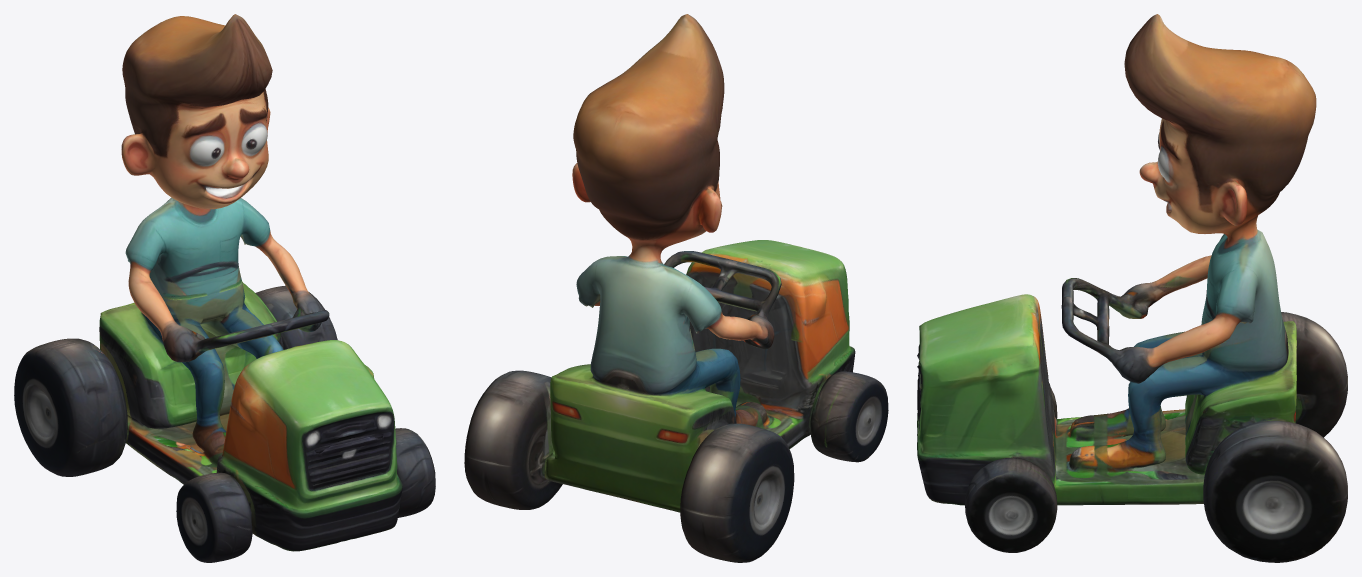
File: mower.glb
The picture shows the model from 3 angles, left to right: view 1: azimuth 30°, elevation 25°; view 2: azimuth 150°, elevation 25°; view 3: azimuth 270°, elevation 25°; orthographic projection. The views are drawn at different scales.
Bounding box in the file's own units: 1.23 × 2 × 1.6.
Materials: 1 (1 with a texture image).
